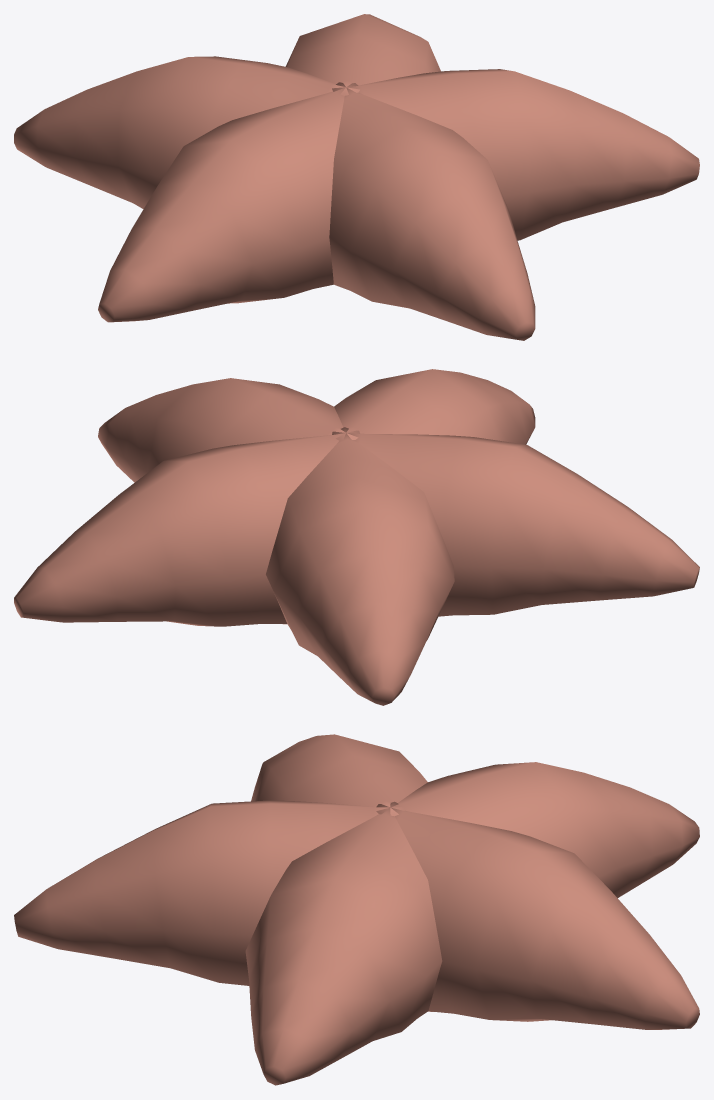
Rendered from reef_starfish.glb.
3 views of the same model, one above another, from view 1: azimuth 30°, elevation 25°; view 2: azimuth 150°, elevation 25°; view 3: azimuth 270°, elevation 25° (orthographic). The views are drawn at different scales.
Visible parts, largest first — view 1: reef_starfish_painted_mesh; view 2: reef_starfish_painted_mesh; view 3: reef_starfish_painted_mesh.
Boxes of the visible parts, <box> form: reef_starfish_painted_mesh: <box>14,14,699,340</box>; reef_starfish_painted_mesh: <box>14,369,699,705</box>; reef_starfish_painted_mesh: <box>14,734,699,1085</box>.
Size of the model in its own units: 0.9047 by 0.2827 by 0.8621.
